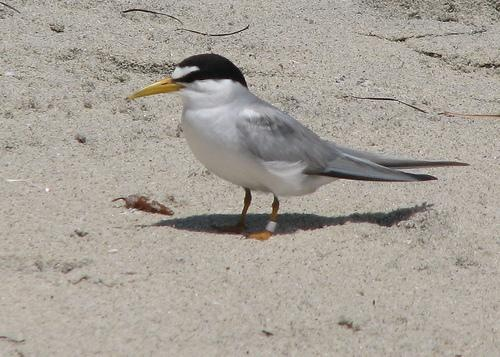bird: (123, 53, 465, 240)
